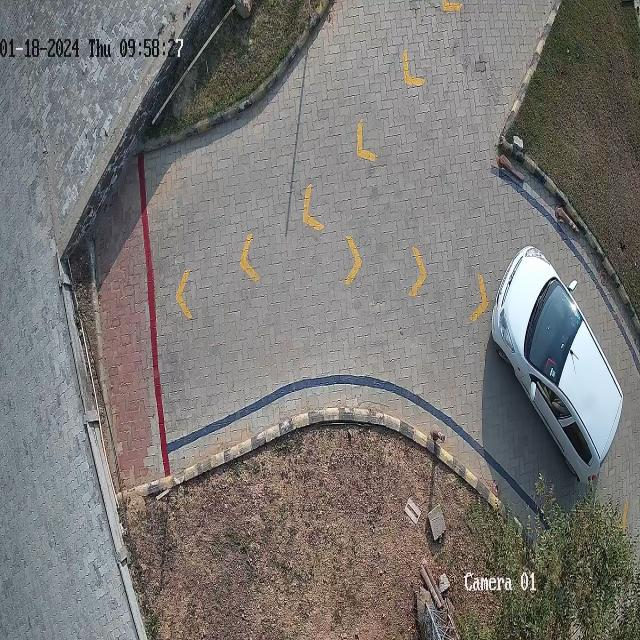car: (491, 247, 622, 483)
